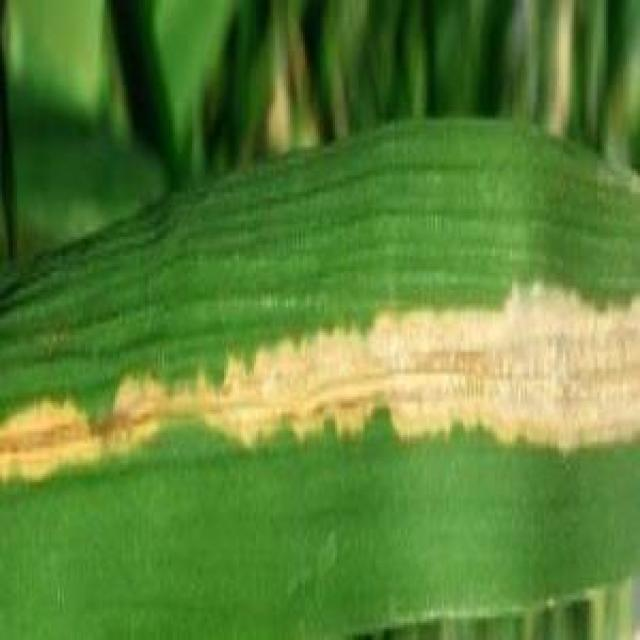Bacterial_Blight: (0, 271, 640, 489)
